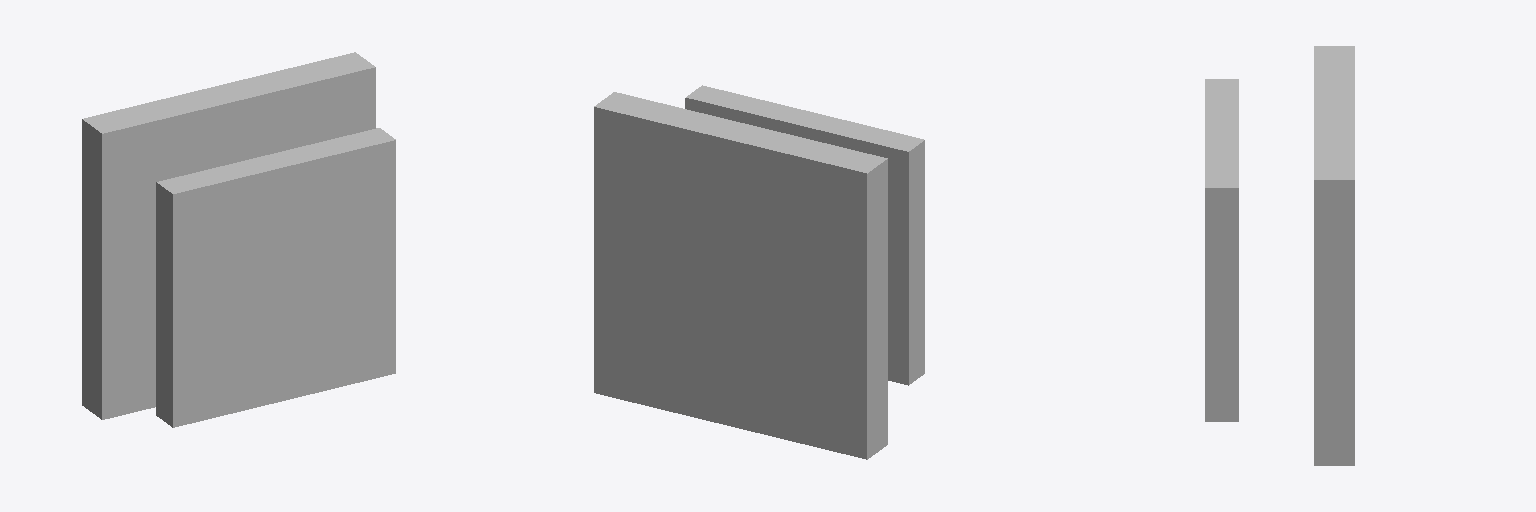
File: sagar.obj
3 renders of one model, left to right at view 1: azimuth 30°, elevation 25°; view 2: azimuth 150°, elevation 25°; view 3: azimuth 270°, elevation 25°, orthographic.
Visible parts, largest first — view 1: Cube.002, Cube.001; view 2: Cube.001, Cube.002; view 3: Cube.001, Cube.002.
Boxes of the visible parts, <box> form: Cube.002: <box>156,128,395,427</box>; Cube.001: <box>82,52,375,419</box>; Cube.001: <box>594,92,887,459</box>; Cube.002: <box>685,85,924,385</box>; Cube.001: <box>1314,46,1354,465</box>; Cube.002: <box>1205,79,1238,421</box>.
Size of the model in its own units: 4.96 by 4.96 by 2.34.